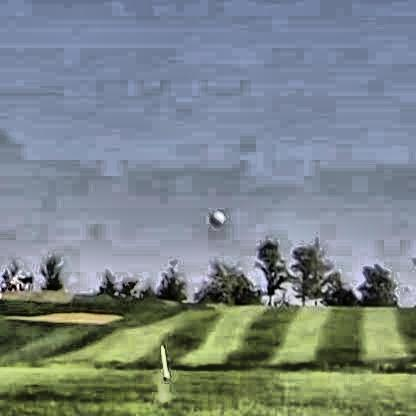golfball: (206, 207, 222, 225)
